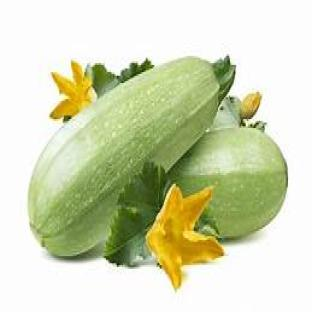Zucchini: (28, 58, 234, 256), (170, 127, 287, 238)
